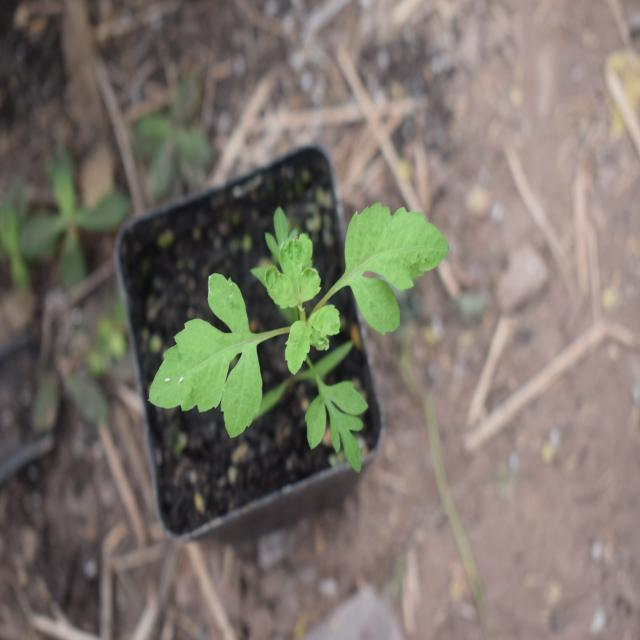Bidens pilosa: (136, 180, 467, 480)
